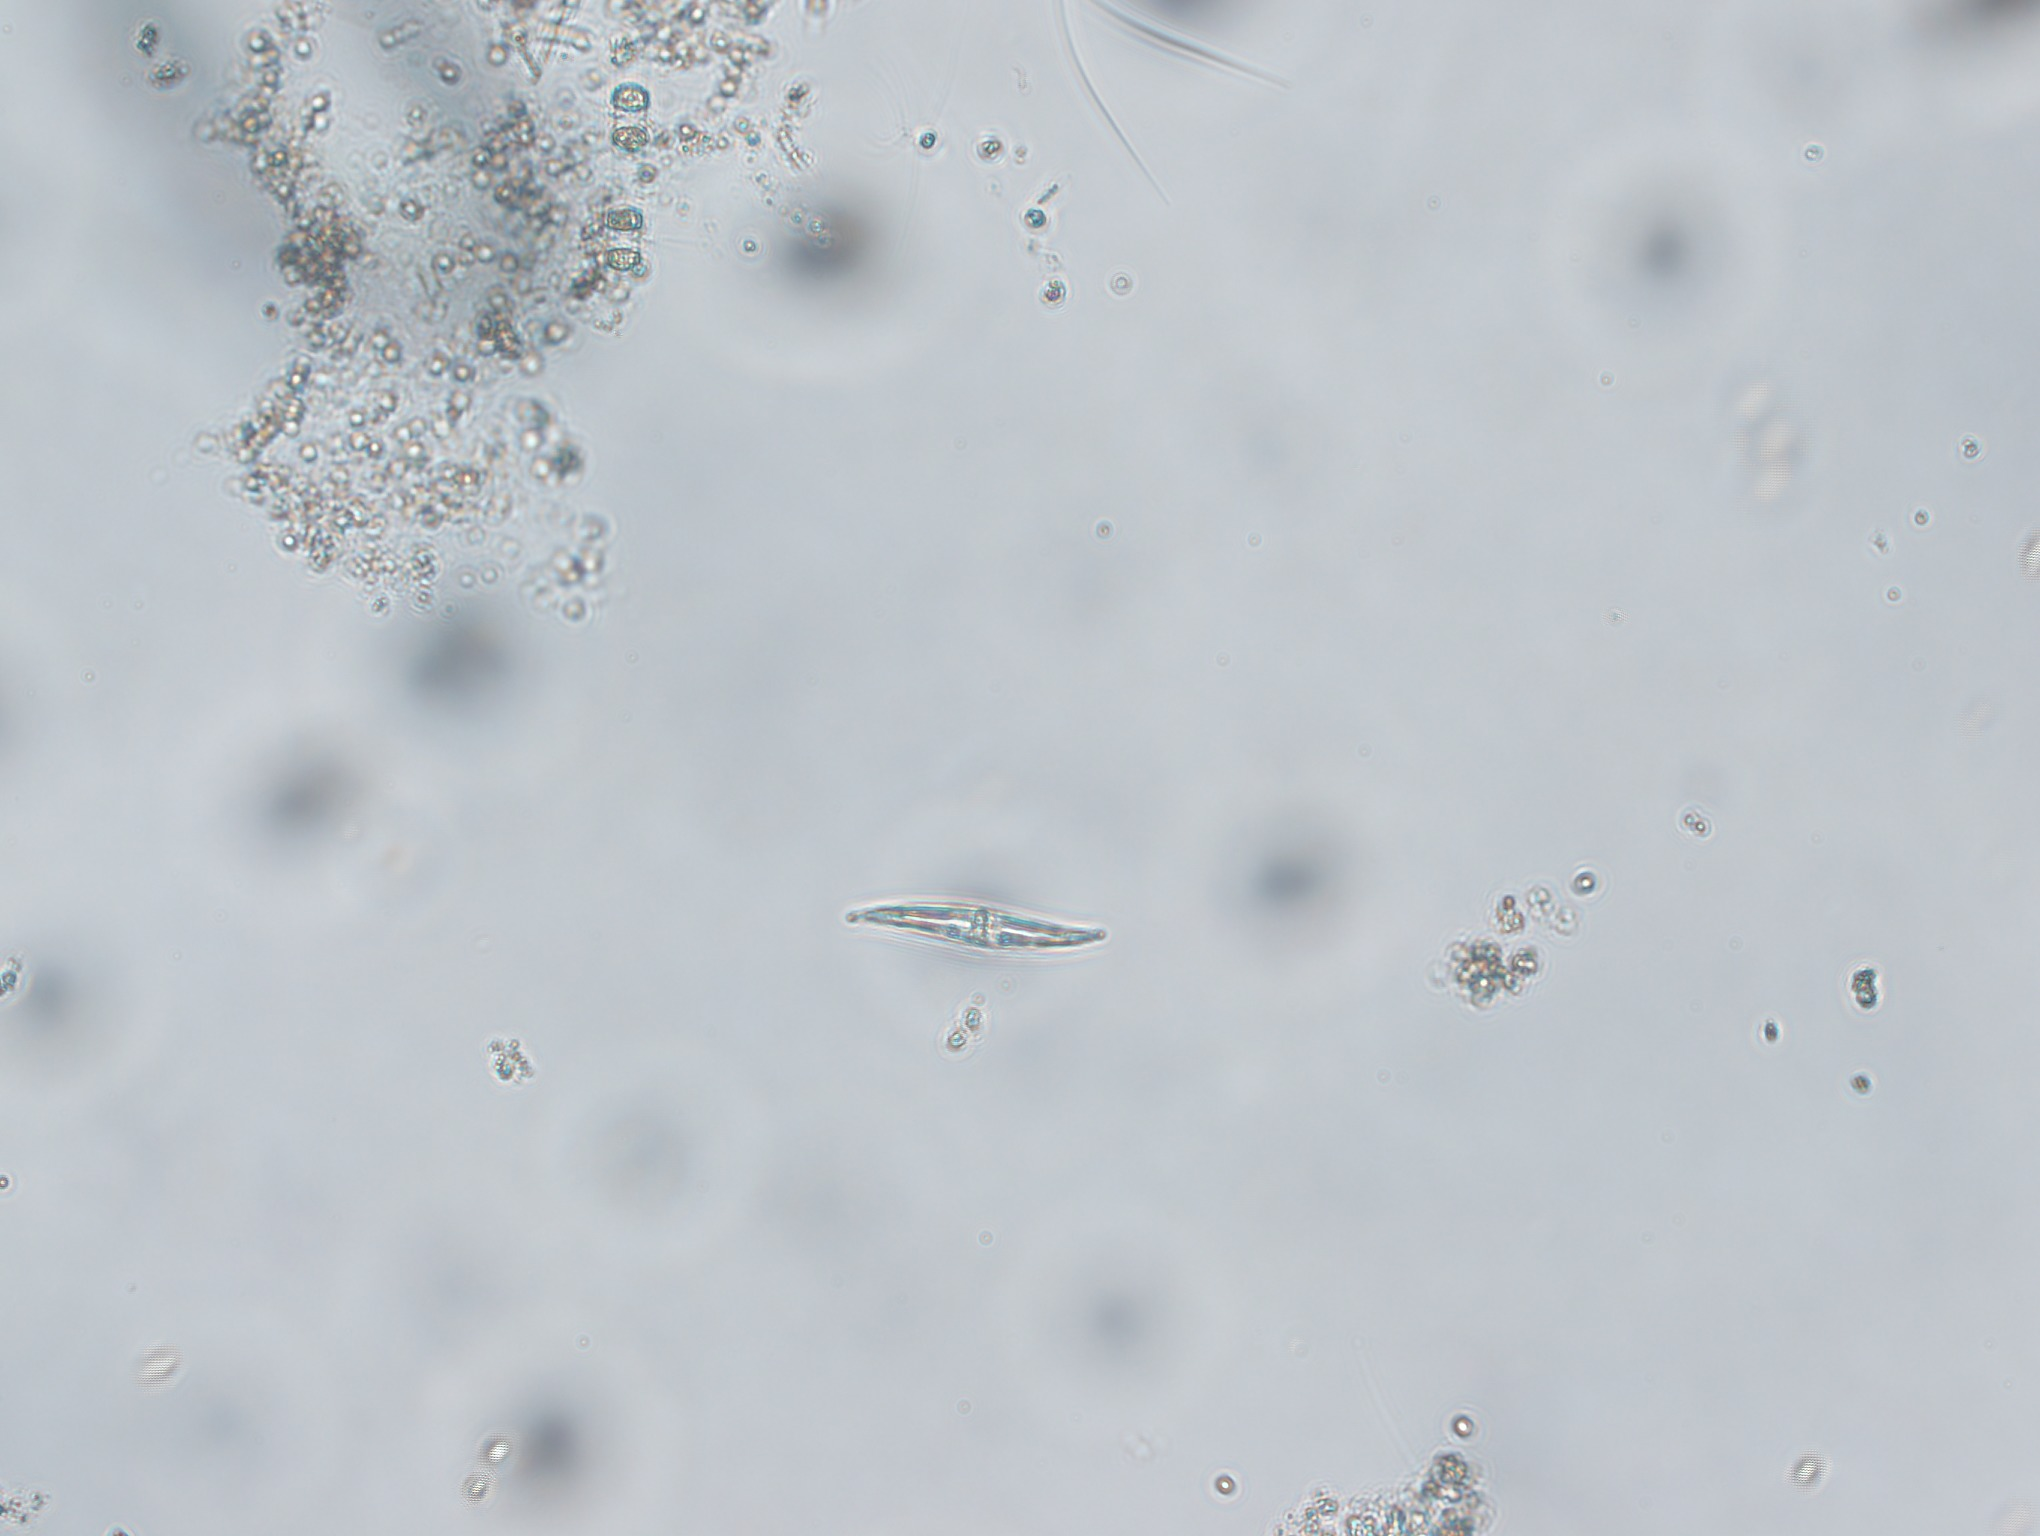pleurosigma pelagicum: (847, 892, 1114, 968)
